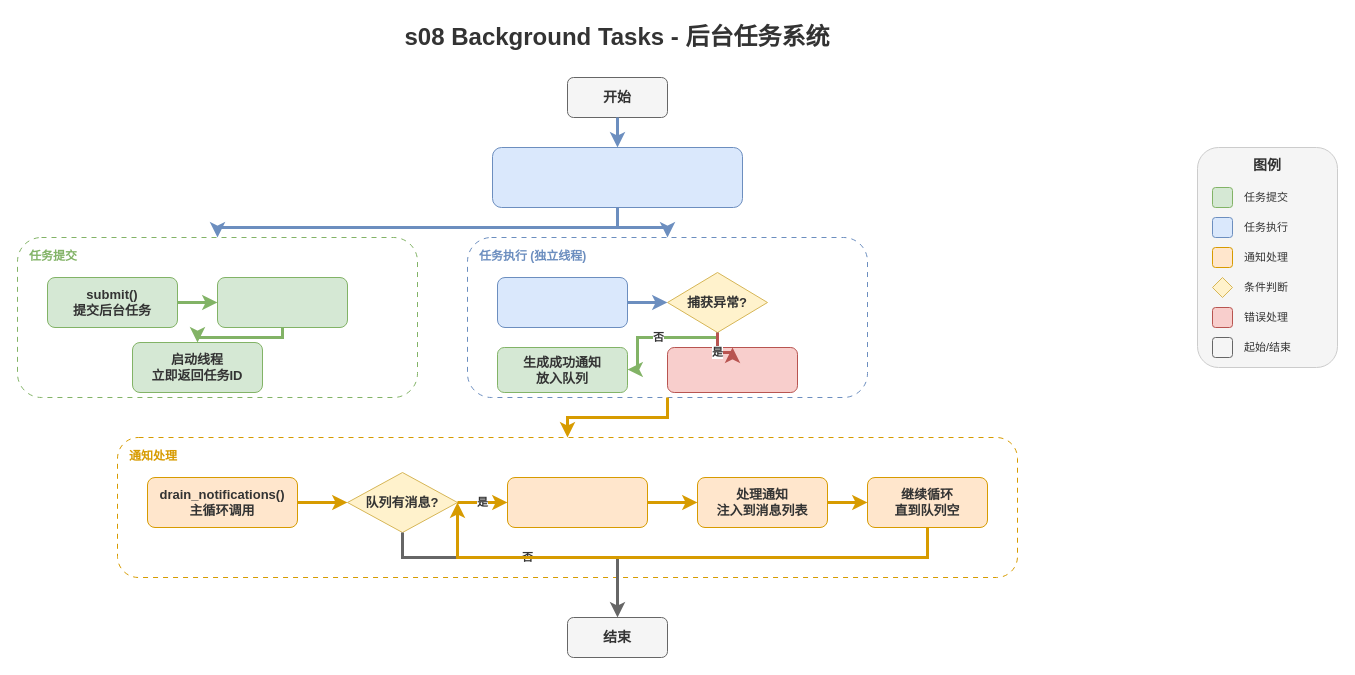
The diagram is 1355 pixels wide and 675 high, and some of its shapes have lost their labels. Each missing label, with the centre of its shape:
"创建线程 设置 daemon=True" goes at (282,302).
"初始化 BackgroundManager 创建通知队列" goes at (617,177).
"取出通知 Queue.get_nowait()" goes at (577,502).
"执行任务函数 task_func(*args)" goes at (562,302).
"生成错误通知 放入队列" goes at (732,369).
